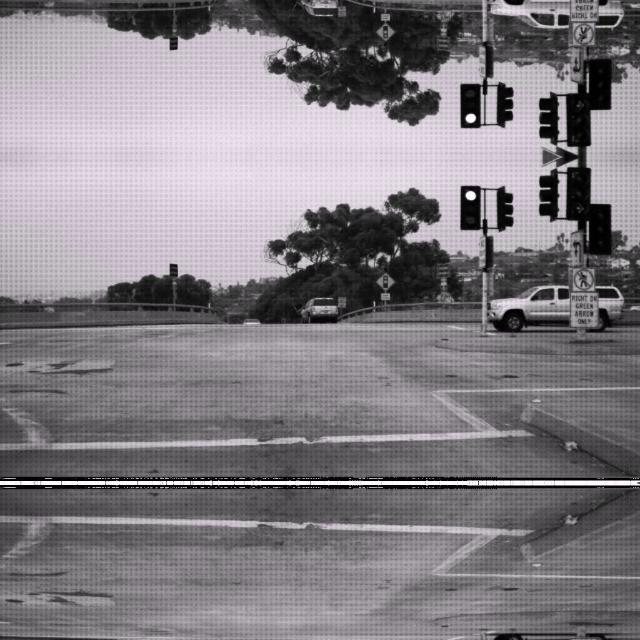signalAhead: (375, 270, 395, 292), (375, 20, 395, 42)
